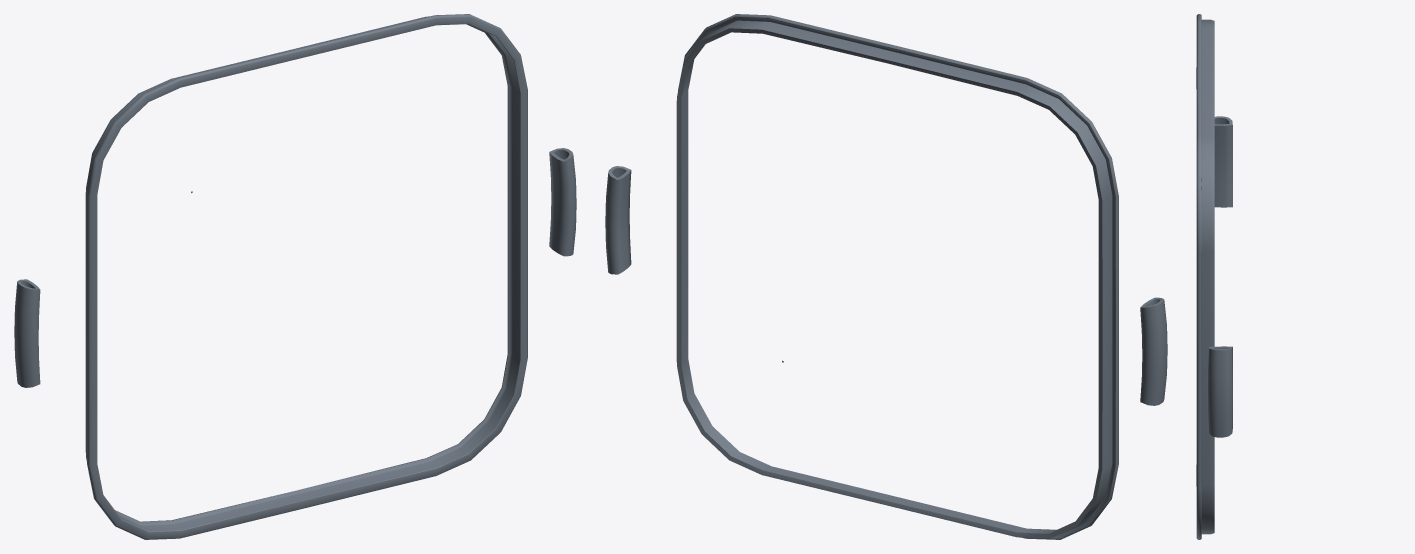
The model's file is MeshPot_14_0_GeomSubset_1.obj.
The picture shows the model from 3 angles, left to right: view 1: azimuth 30°, elevation 25°; view 2: azimuth 150°, elevation 25°; view 3: azimuth 270°, elevation 25°; orthographic projection. The views are drawn at different scales.
Parts seen in each view (by area): view 1: MeshPot_14_0_GeomSubset_1; view 2: MeshPot_14_0_GeomSubset_1; view 3: MeshPot_14_0_GeomSubset_1.
Part boxes in pixels (x1,y1,x2,y2): MeshPot_14_0_GeomSubset_1: [14, 14, 576, 539]; MeshPot_14_0_GeomSubset_1: [605, 14, 1167, 539]; MeshPot_14_0_GeomSubset_1: [1196, 14, 1232, 539].
Size of the model in its own units: 0.3375 by 0.2665 by 0.1232.
